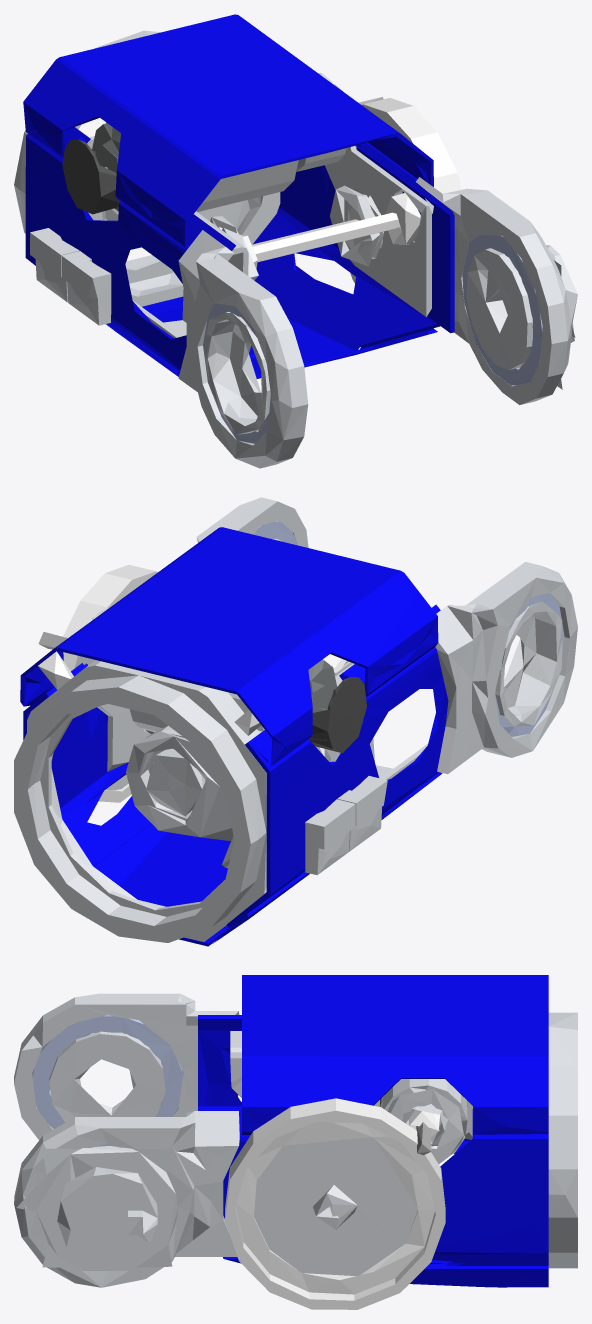
The model's file is LARM_LINK1_mesh.dae.
3 views of the same model, one above another, from view 1: azimuth 30°, elevation 25°; view 2: azimuth 150°, elevation 25°; view 3: azimuth 270°, elevation 25° (orthographic). The views are drawn at different scales.
Parts seen in each view (by area): view 1: LARM_LINK1 (×19); view 2: LARM_LINK1 (×16); view 3: LARM_LINK1 (×13).
Boxes of the visible parts, <box> form: LARM_LINK1 (×19): <box>14,14,577,468</box>; LARM_LINK1 (×16): <box>14,497,577,946</box>; LARM_LINK1 (×13): <box>14,975,577,1309</box>.
Size of the model in its own units: 0.1241 by 0.092 by 0.193.
